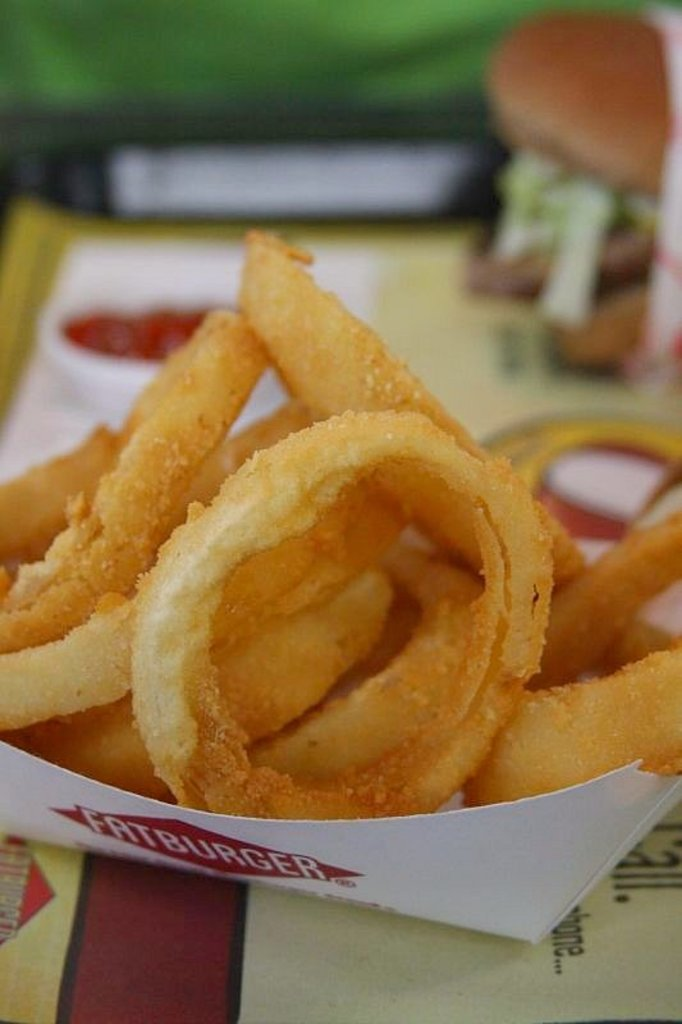French fries: (0, 221, 680, 864)
